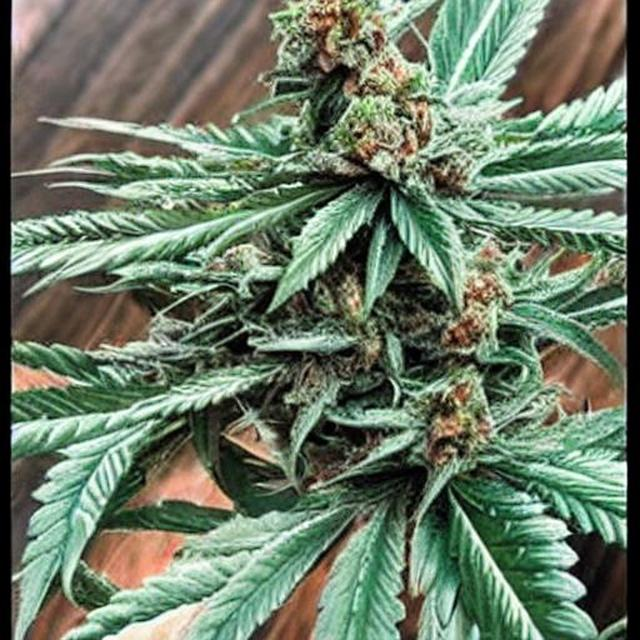Marijuana Plant: (20, 93, 639, 595), (119, 421, 503, 596)
